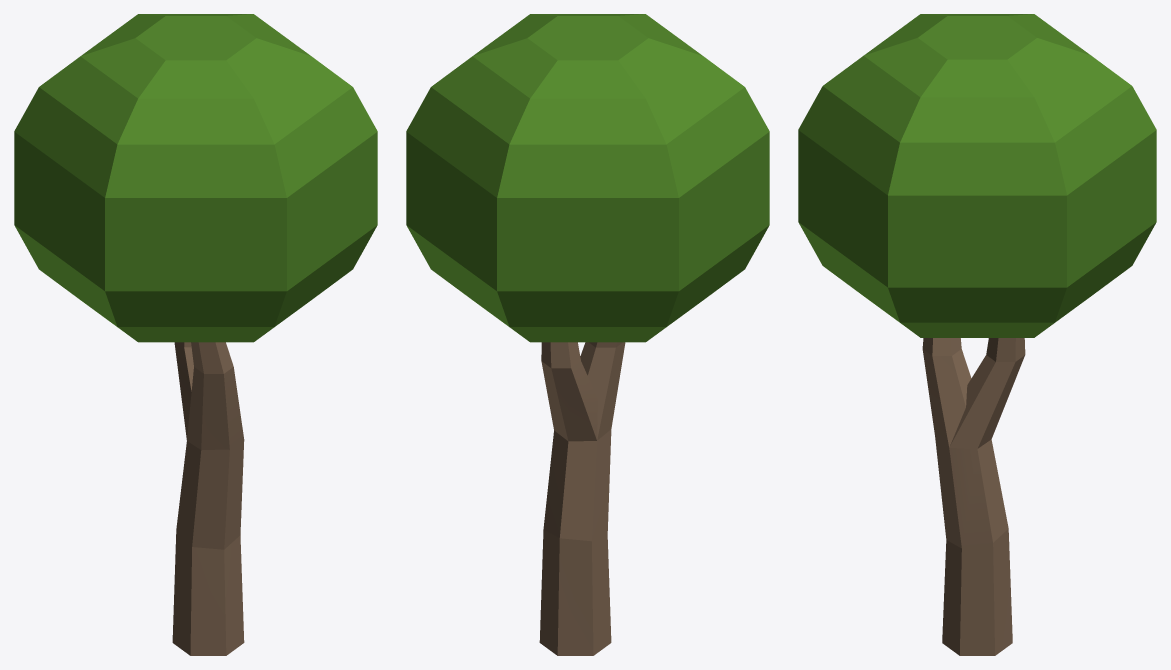
File: Hilly_Prop_Tree_Oak_2.fbx
The picture shows the model from 3 angles, left to right: view 1: azimuth 30°, elevation 25°; view 2: azimuth 150°, elevation 25°; view 3: azimuth 270°, elevation 25°; orthographic projection.
Visible parts, largest first — view 1: object2, object1; view 2: object2, object1; view 3: object2, object1.
Part boxes in pixels (x1,y1,x2,y2): object2: [14, 14, 377, 342]; object1: [172, 342, 244, 655]; object2: [406, 14, 769, 342]; object1: [539, 342, 625, 655]; object2: [798, 14, 1156, 337]; object1: [922, 338, 1025, 655].
Bounding box in the file's own units: 2.2 × 4.68 × 2.54.
